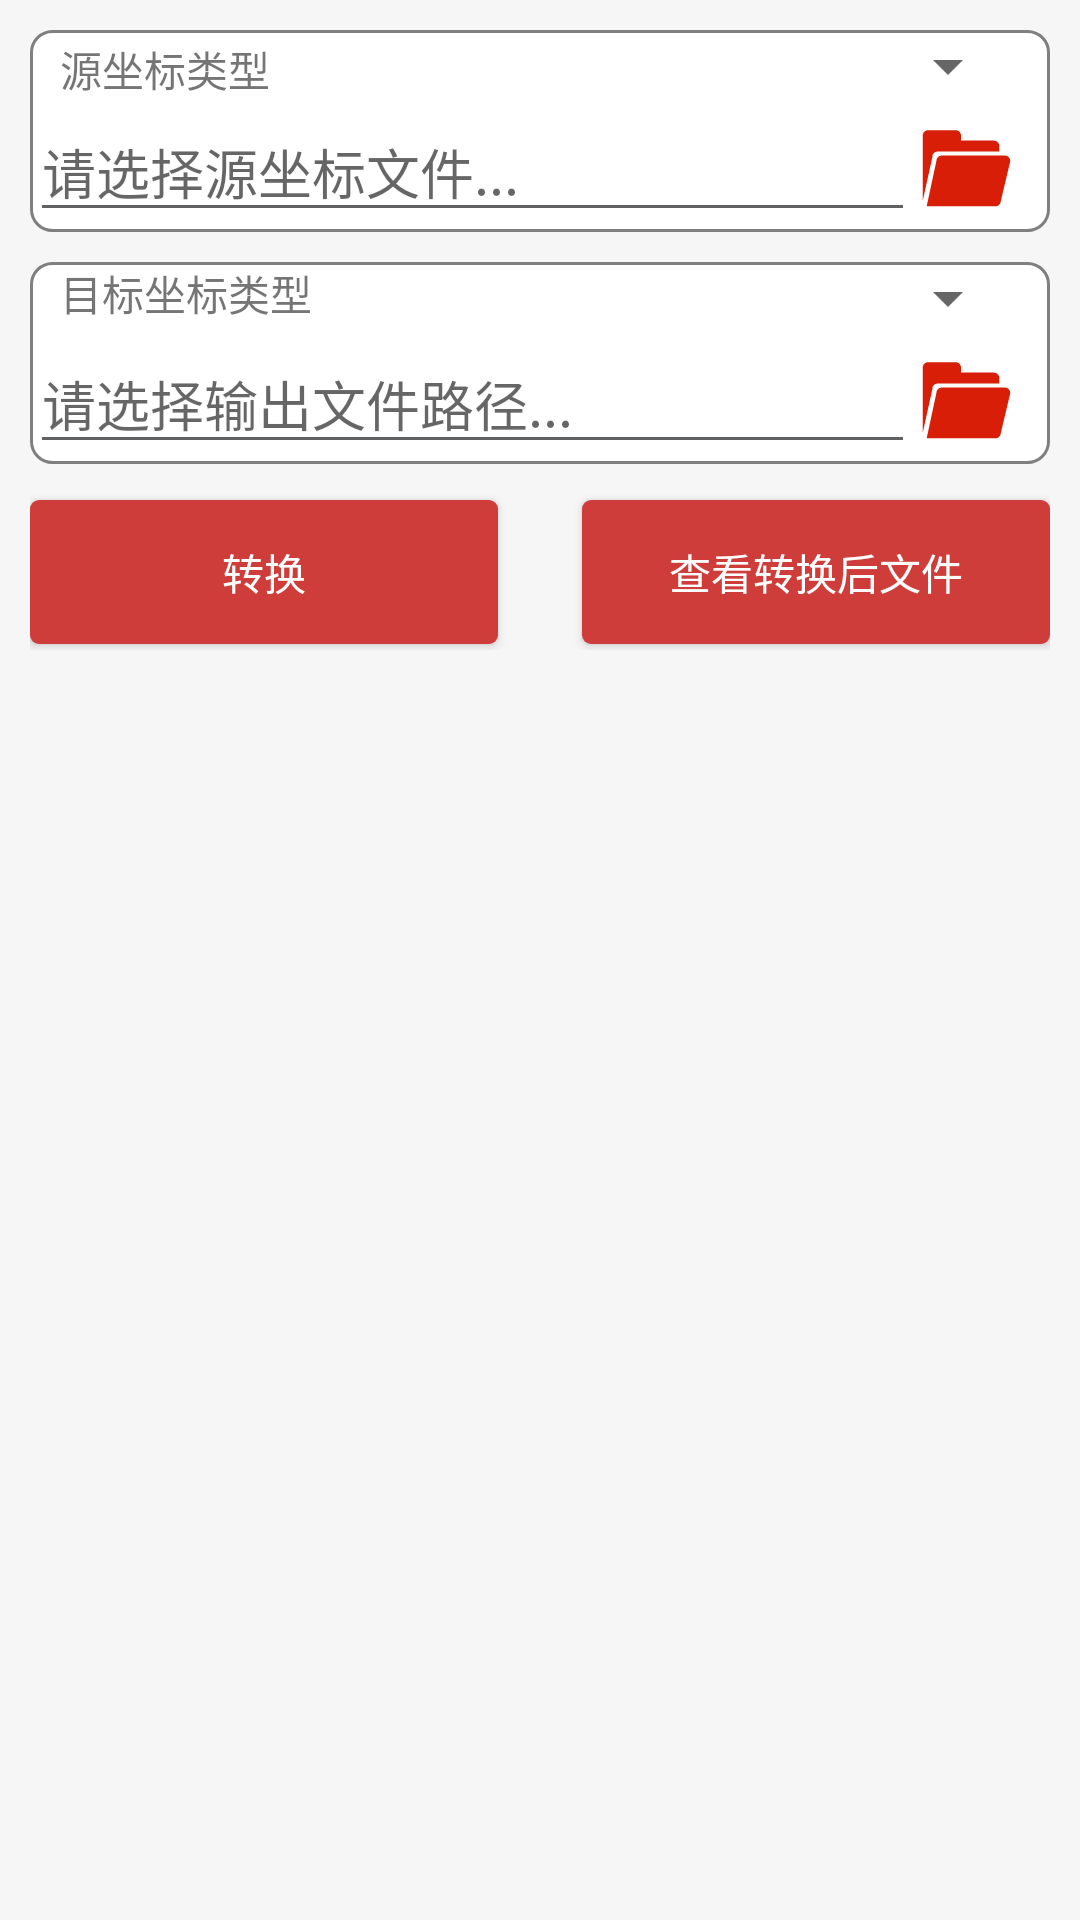

Icon bounding boxes for this 1080px x 1920px phone screenshot, format (x1, y1, x2, y2):
file: (922, 130, 1011, 207), (922, 362, 1011, 439)
